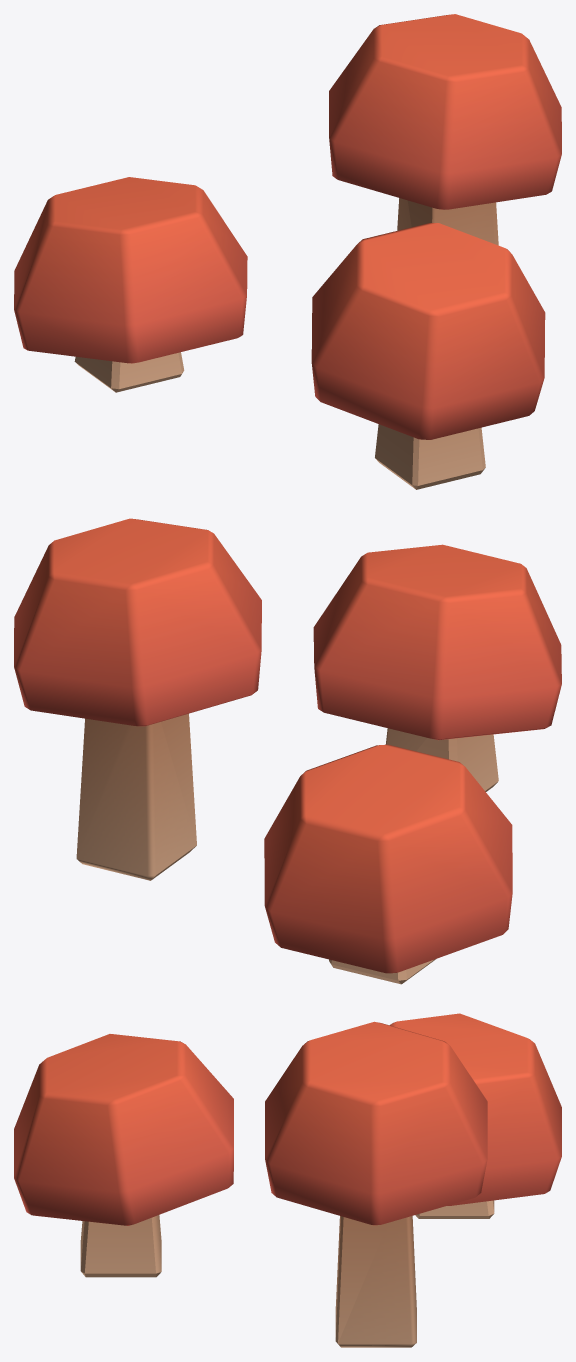
The model's file is kenney-platformer__mushrooms.glb.
3 views of the same model, one above another, from view 1: azimuth 30°, elevation 25°; view 2: azimuth 150°, elevation 25°; view 3: azimuth 270°, elevation 25° (orthographic). The views are drawn at different scales.
Parts seen in each view (by area): view 1: mushrooms; view 2: mushrooms; view 3: mushrooms.
Part boxes in pixels (<box>): mushrooms: <box>14,14,561,489</box>; mushrooms: <box>14,518,561,984</box>; mushrooms: <box>14,1013,561,1347</box>.
Size of the model in its own units: 0.5169 by 0.2888 by 0.5119.
1 material, 1 textured.
